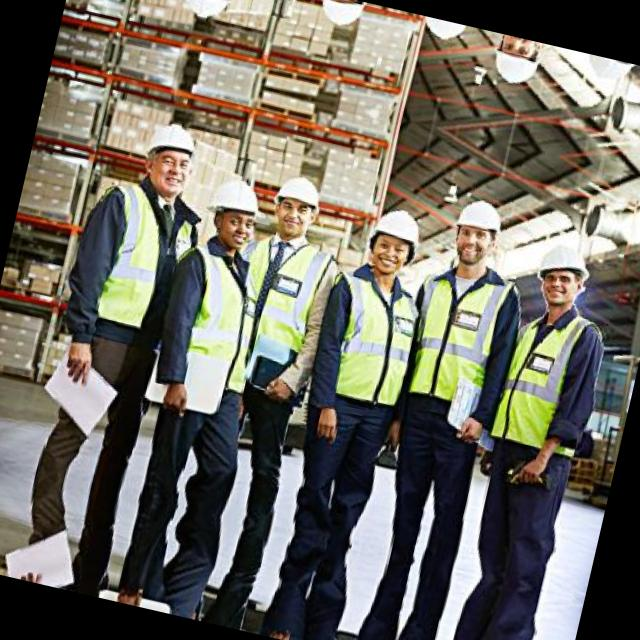helmet: (126, 110, 211, 202), (352, 197, 433, 290), (518, 225, 600, 316), (192, 166, 272, 256), (255, 158, 335, 246), (438, 183, 512, 274), (478, 31, 548, 100), (568, 50, 640, 99), (302, 0, 375, 43), (408, 13, 478, 52), (165, 0, 247, 30), (248, 0, 316, 9)
